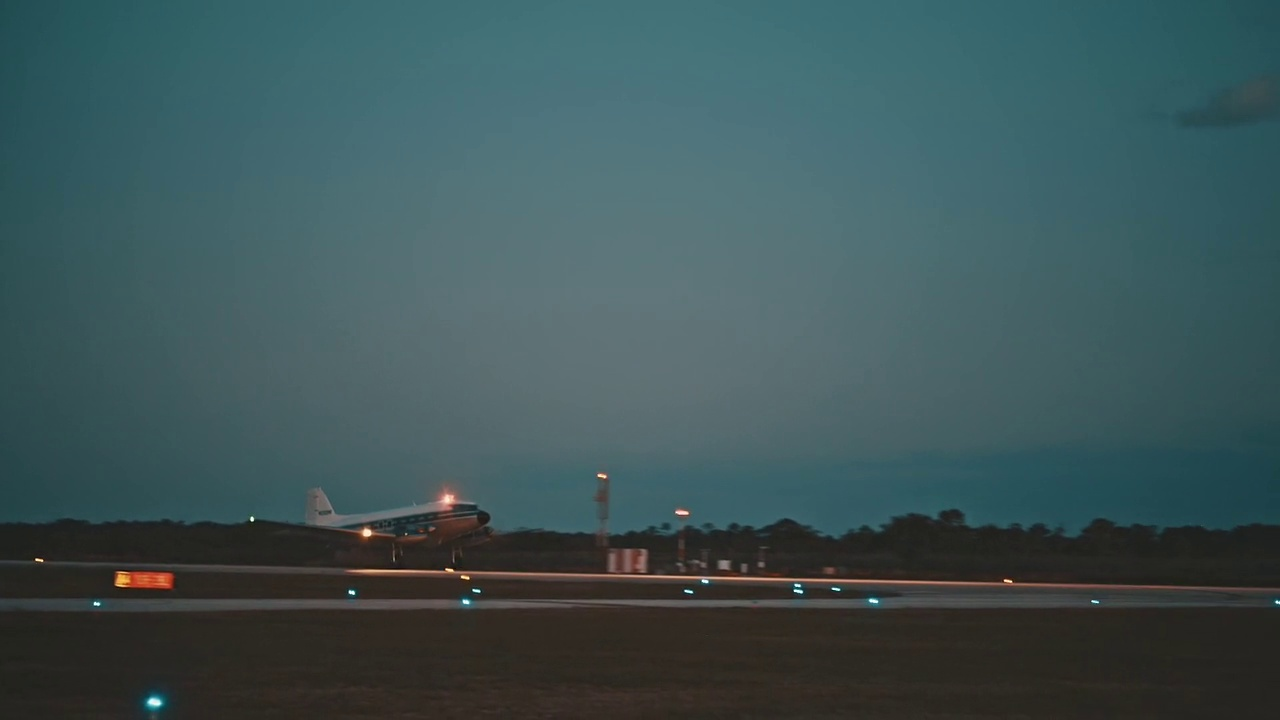plane: (248, 483, 497, 569)
